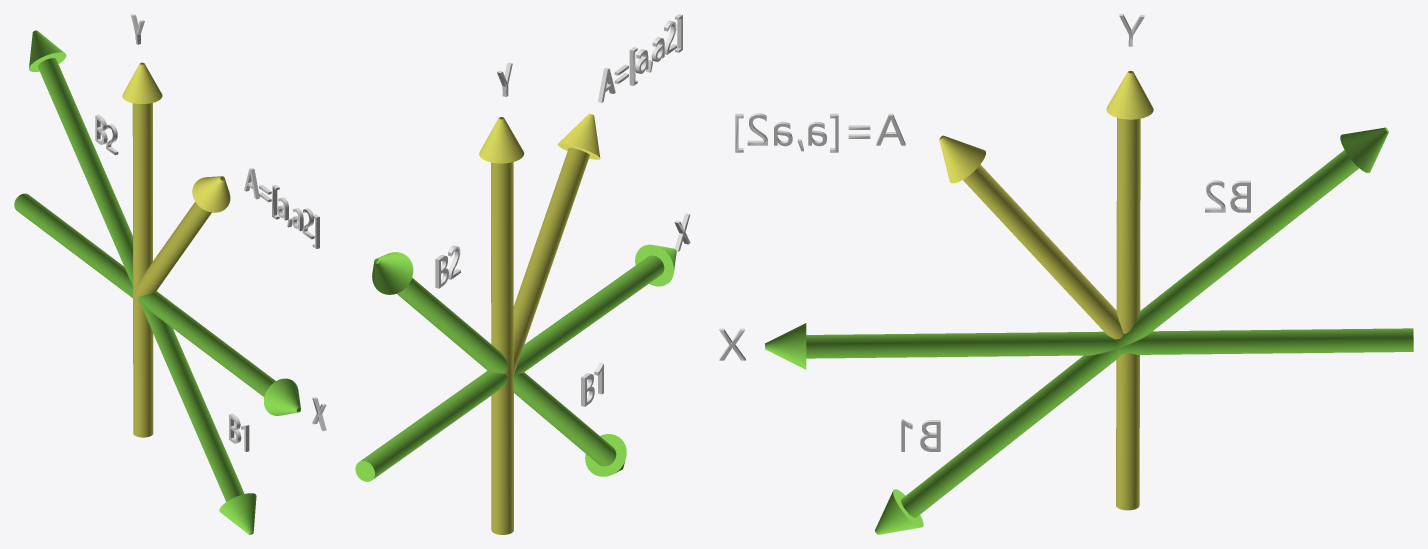
The picture shows the model from 3 angles, left to right: view 1: azimuth 30°, elevation 25°; view 2: azimuth 150°, elevation 25°; view 3: azimuth 270°, elevation 25°; orthographic projection. The views are drawn at different scales.
Visible parts, largest first — view 1: Cylinder.048, Cylinder.049, Cylinder.050, Cylinder.047, Cone.036, Cone.039, Cone.038, Cone.037, Cone.035; view 2: Cylinder.050, Cylinder.049, Cylinder.048, Cylinder.047, Cone.035, Cone.038, Cone.036, Cone.039, Cone.037; view 3: Cylinder.050, Cylinder.048, Cylinder.049, Cylinder.047, Cone.038, Cone.036, Cone.035, Cone.037, Cone.039.
Boxes of the visible parts, x1,y1,x2,y2 form: Cylinder.048: [37, 58, 244, 501]; Cylinder.049: [132, 103, 153, 437]; Cylinder.050: [14, 193, 275, 396]; Cylinder.047: [134, 202, 211, 297]; Cone.036: [192, 176, 230, 212]; Cone.039: [264, 378, 300, 415]; Cone.038: [122, 62, 162, 103]; Cone.037: [219, 493, 256, 534]; Cone.035: [29, 30, 66, 71]; Cylinder.050: [355, 255, 664, 481]; Cylinder.049: [491, 162, 513, 534]; Cylinder.048: [397, 277, 616, 466]; Cylinder.047: [512, 147, 589, 374]; Cone.035: [372, 252, 413, 294]; Cone.038: [479, 117, 524, 163]; Cone.036: [557, 113, 600, 159]; Cone.039: [635, 244, 676, 286]; Cone.037: [585, 434, 626, 476]; Cylinder.050: [806, 328, 1413, 358]; Cylinder.048: [901, 150, 1358, 517]; Cylinder.049: [1116, 118, 1140, 510]; Cylinder.047: [963, 164, 1123, 339]; Cone.038: [1106, 71, 1153, 119]; Cone.036: [939, 135, 985, 183]; Cone.035: [1340, 127, 1388, 172]; Cone.037: [875, 489, 923, 534]; Cone.039: [765, 323, 806, 369].
Size of the model in its own units: 0.0207 by 0.241 by 0.2934.
